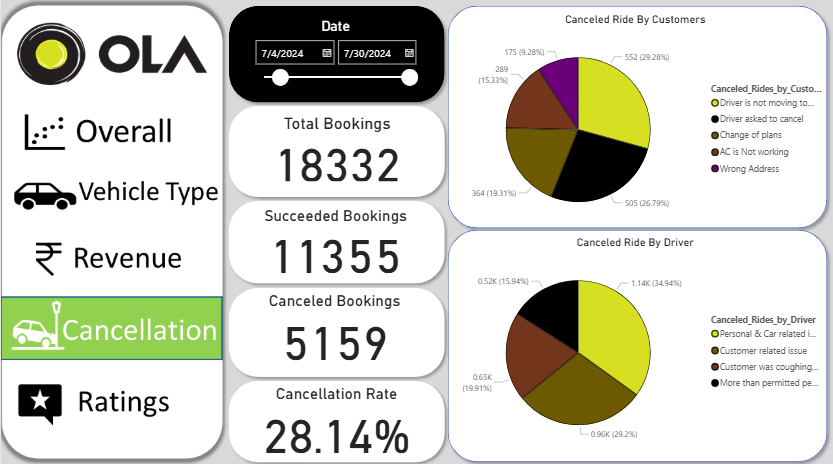

Layout of this report page (visuals, bound fields, positions):
{"tool":"powerbi","page":{"name":"Cancellation","canvas":[1280,720],"ordinal":3},"visuals":[{"type":"actionButton","box":[0,254.9,341.6,90.7],"z":0},{"type":"actionButton","box":[0,360,341.6,90.7],"z":1000},{"type":"actionButton","box":[0,576.8,341.6,88],"z":2000},{"type":"actionButton","box":[0,153.7,341.6,95.9],"z":3000},{"type":"shape","box":[678.3,0,601.7,360],"z":4000},{"type":"shape","box":[678.3,345,601.7,375],"z":5000},{"type":"pieChart","title":"Canceled Ride By Customers","fields":{"Category":["July.Canceled_Rides_by_Customer"],"Y":["CountNonNull(July.Canceled_Rides_by_Customer)"]},"box":[678.3,20,595,340],"z":6000},{"type":"pieChart","title":"Canceled Ride By Driver","fields":{"Category":["July.Canceled_Rides_by_Driver"],"Y":["CountNonNull(July.Canceled_Rides_by_Driver)"]},"box":[678.3,363.3,595,340],"z":7000},{"type":"shape","box":[341.7,0,350,166.7],"z":8000},{"type":"shape","box":[341.7,153.3,350,158.3],"z":9000},{"type":"shape","box":[341.7,300,350,145],"z":10000},{"type":"shape","box":[341.7,433.3,350,155],"z":11000},{"type":"shape","box":[341.7,576.7,350,143.3],"z":12000},{"type":"slicer","title":"Date","fields":{"Values":["July.Date"]},"box":[373.3,20,286.7,160],"z":13000},{"type":"card","title":"Total Bookings","fields":{"Values":["Count(July.Booking_ID)"]},"box":[373.3,153.3,286.7,133.3],"z":14000},{"type":"card","title":"Succeeded Bookings","fields":{"Values":["Count(July.Booking_ID)"]},"box":[381.7,311.7,266.7,126.7],"z":15000},{"type":"card","title":"Canceled Bookings","fields":{"Values":["Count(July.Booking_ID)"]},"box":[388.3,433.3,251.7,126.7],"z":16000},{"type":"card","title":"Cancellation Rate","fields":{"Values":["July.CanceledBookingsPerct"]},"box":[390,576.7,251.7,126.7],"z":17000}]}

Visuals, with their boxes in screenshot pixels (x1, y1, x2, y2), scaled from the page's 1280x720 canvas onto the 833x464 screenshot:
actionButton: x1=0 y1=164 x2=222 y2=223
actionButton: x1=0 y1=232 x2=222 y2=290
actionButton: x1=0 y1=372 x2=222 y2=428
actionButton: x1=0 y1=99 x2=222 y2=161
shape: x1=441 y1=0 x2=832 y2=232
shape: x1=441 y1=222 x2=832 y2=463
"Canceled Ride By Customers" pieChart: x1=441 y1=13 x2=829 y2=232
"Canceled Ride By Driver" pieChart: x1=441 y1=234 x2=829 y2=453
shape: x1=222 y1=0 x2=450 y2=107
shape: x1=222 y1=99 x2=450 y2=201
shape: x1=222 y1=193 x2=450 y2=287
shape: x1=222 y1=279 x2=450 y2=379
shape: x1=222 y1=372 x2=450 y2=463
"Date" slicer: x1=243 y1=13 x2=430 y2=116
"Total Bookings" card: x1=243 y1=99 x2=430 y2=185
"Succeeded Bookings" card: x1=248 y1=201 x2=422 y2=283
"Canceled Bookings" card: x1=253 y1=279 x2=416 y2=361
"Cancellation Rate" card: x1=254 y1=372 x2=418 y2=453
